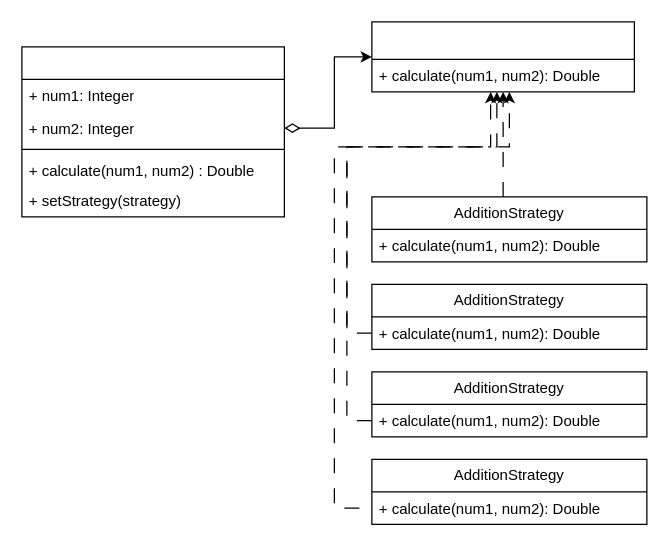
This 669x550 diagram has some shape labels left out. The shapes that lost their labels are listed below. From the top down, each one's box as (x1, y1, x2, y2) in pixels, then its label:
(371, 21, 634, 92): <<interface>> CalculationStrategy
(21, 46, 284, 217): MainActivity
